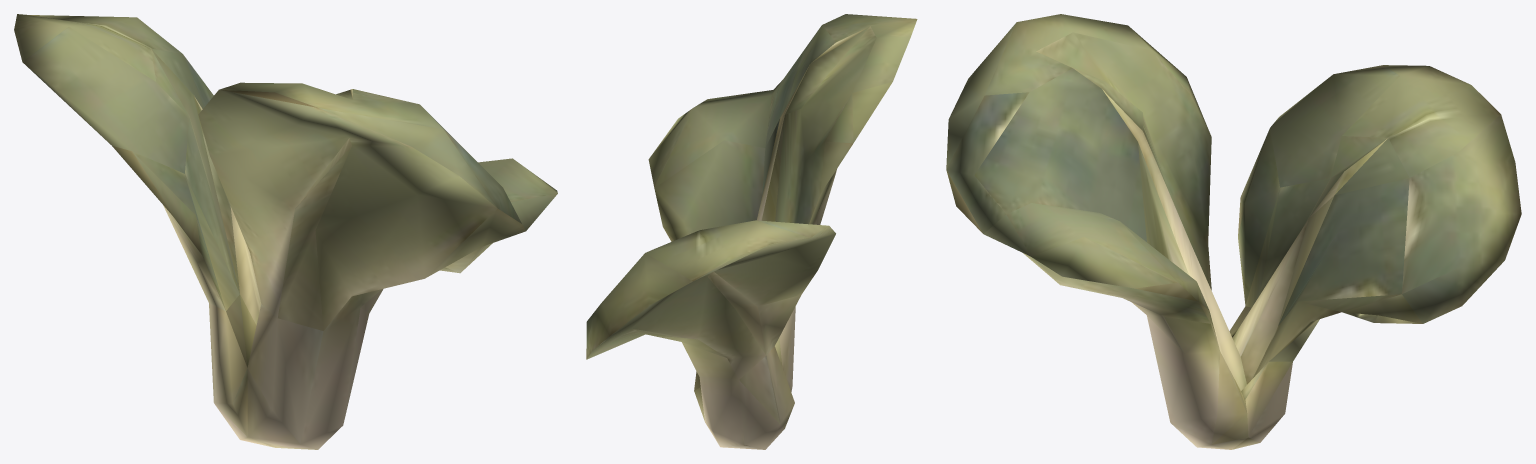
File: lingcao_shengling_sprout.obj
3 views of the same model, side by side, from view 1: azimuth 30°, elevation 25°; view 2: azimuth 150°, elevation 25°; view 3: azimuth 270°, elevation 25° (orthographic). The views are drawn at different scales.
Parts seen in each view (by area): view 1: lingcao_shengling_sprout; view 2: lingcao_shengling_sprout; view 3: lingcao_shengling_sprout.
Part boxes in pixels (<box>): lingcao_shengling_sprout: <box>14,14,557,449</box>; lingcao_shengling_sprout: <box>586,14,917,449</box>; lingcao_shengling_sprout: <box>946,14,1521,449</box>.
Size of the model in its own units: 0.0837 by 0.1031 by 0.1396.
Materials: 1 (1 with a texture image).
